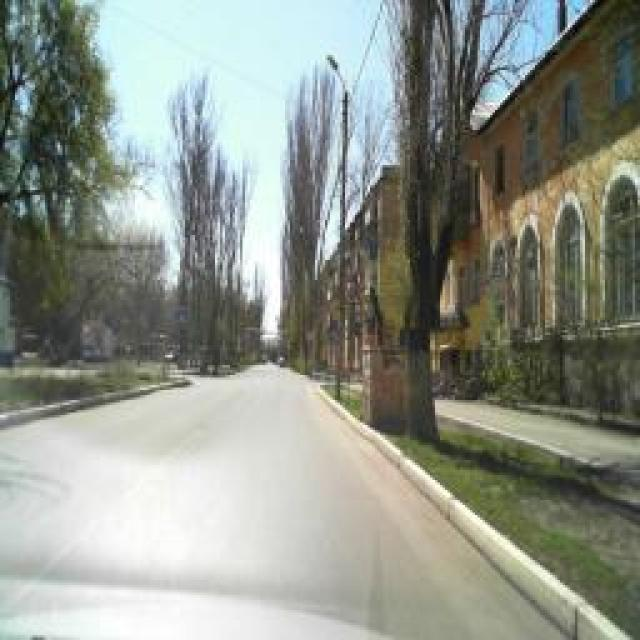sign: (306, 328, 314, 344)
